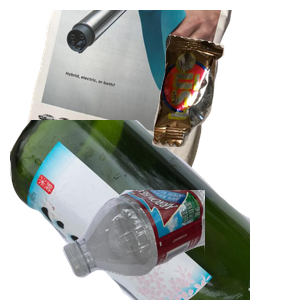glass: (10, 120, 250, 300)
paper: (20, 10, 244, 190)
plastic: (60, 190, 300, 280)
trash: (150, 32, 300, 172)
